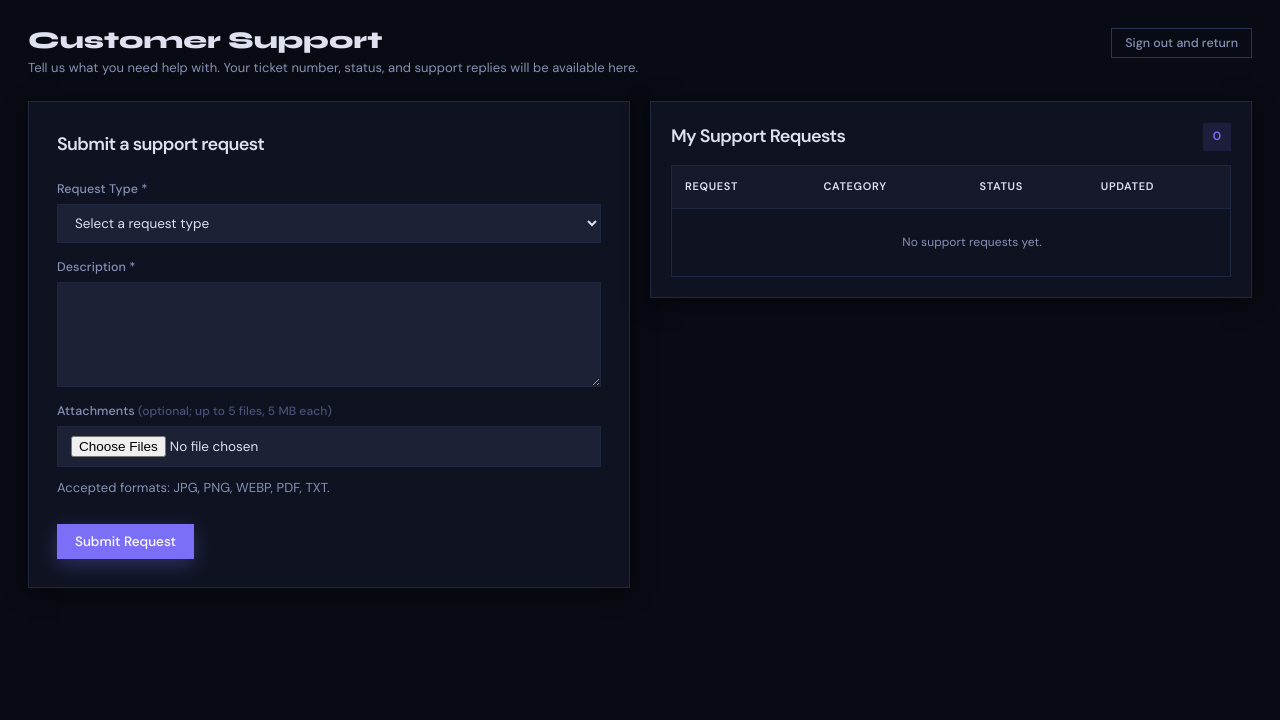
Test: React Customer Support › blocks duplicate submissions while a save is pending
The width and height of the screenshot is (1280, 720).
Later steps or results of the test are not shown.
Select "Payment Issues" in the dropdown labelled "Request Type *": (329, 224) [57,204,601,243]
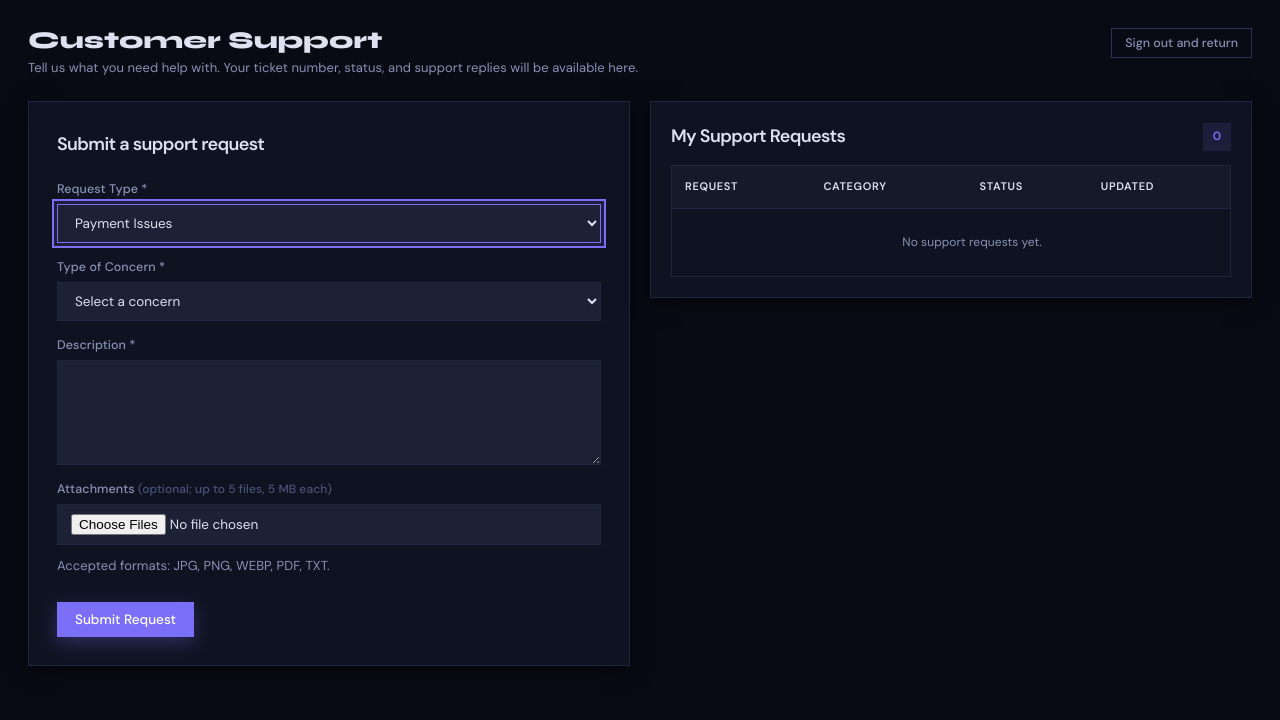
Select "Payment is not working" in the dropdown labelled "Type of Concern *": (329, 302) [57,282,601,321]
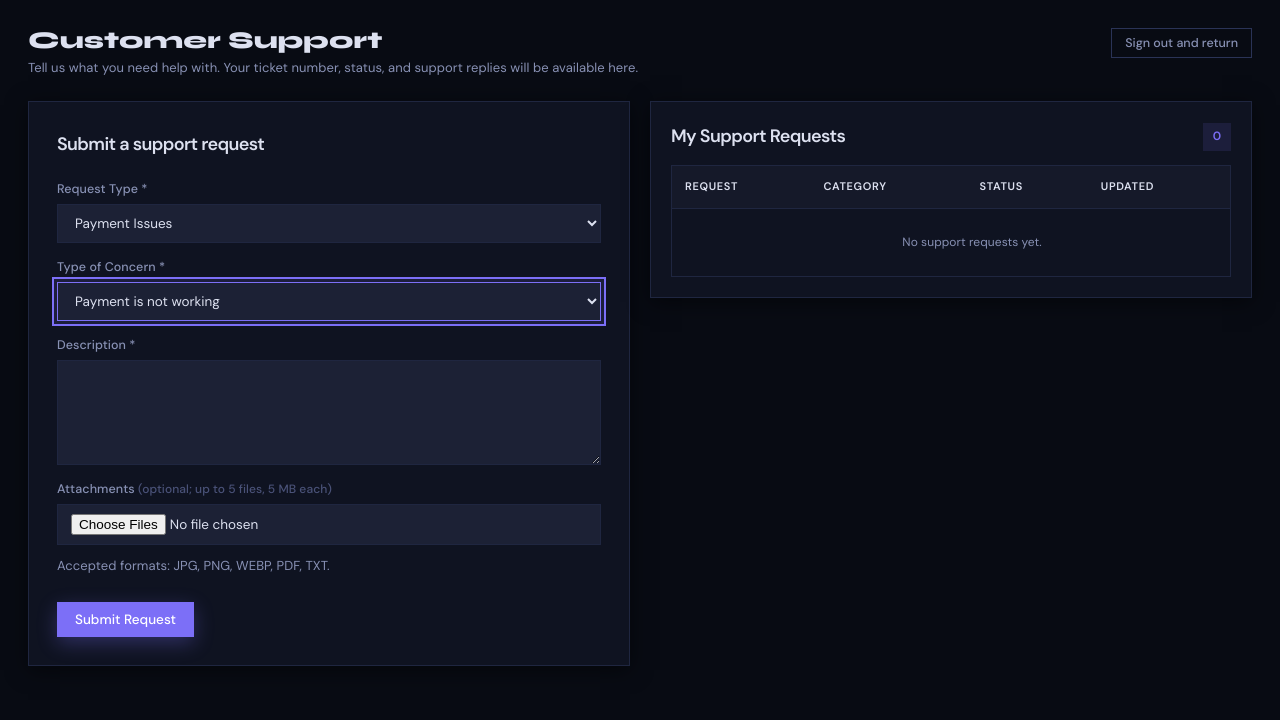
In the text box labelled "Description *": (329, 412) [57,360,601,465], type "Please check my payment."
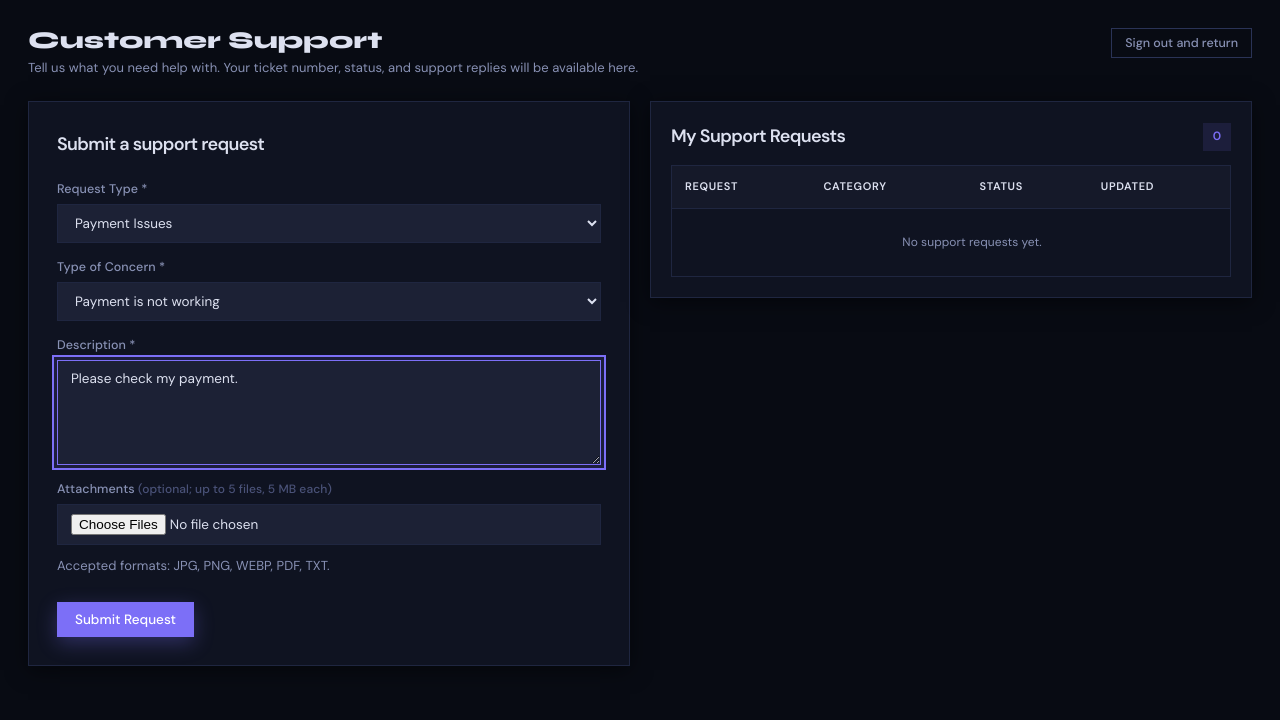
Double-click the button "Submit Request": (126, 620) [57,602,194,637]
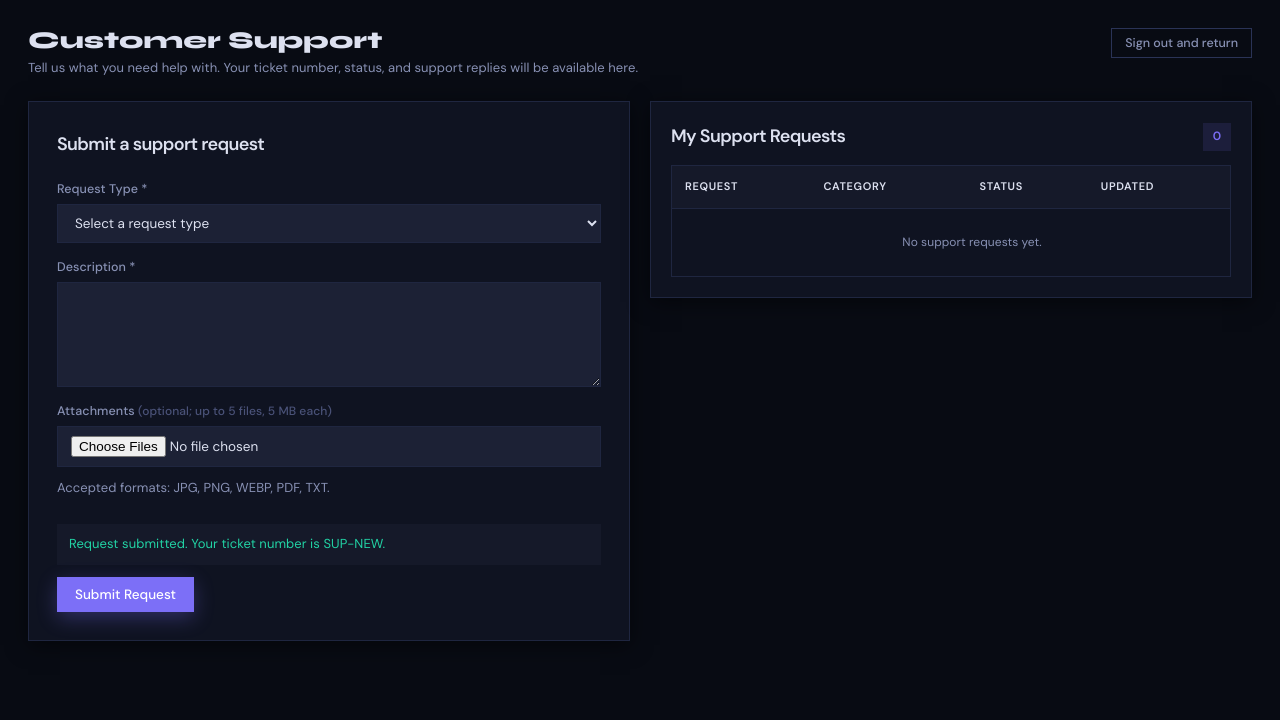
expect the text "Request submitted. Your ticket number is SUP-NEW." is shown: met, box [57,524,601,565]
